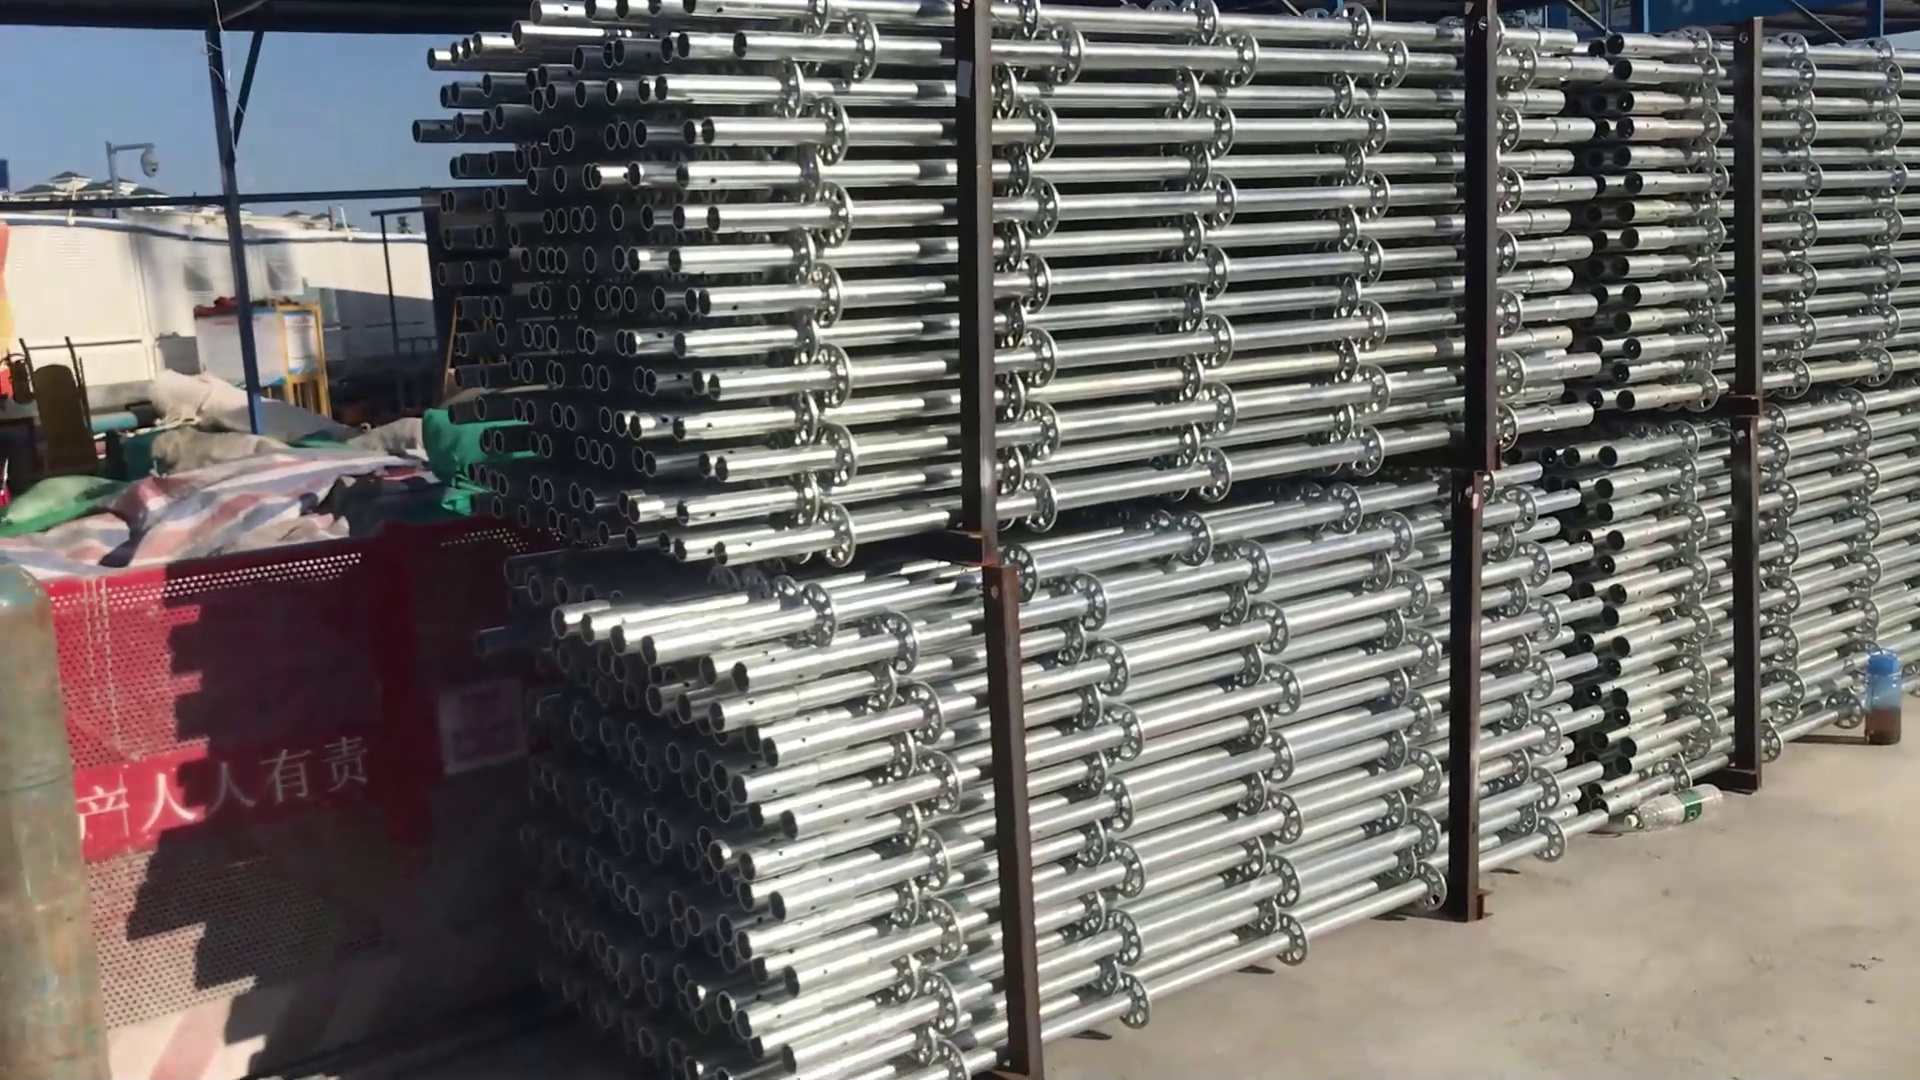fence: (47, 529, 506, 1080)
scaffold: (450, 8, 1611, 1080), (1625, 16, 1915, 837)
